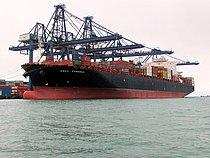Ship: (16, 52, 201, 101)
